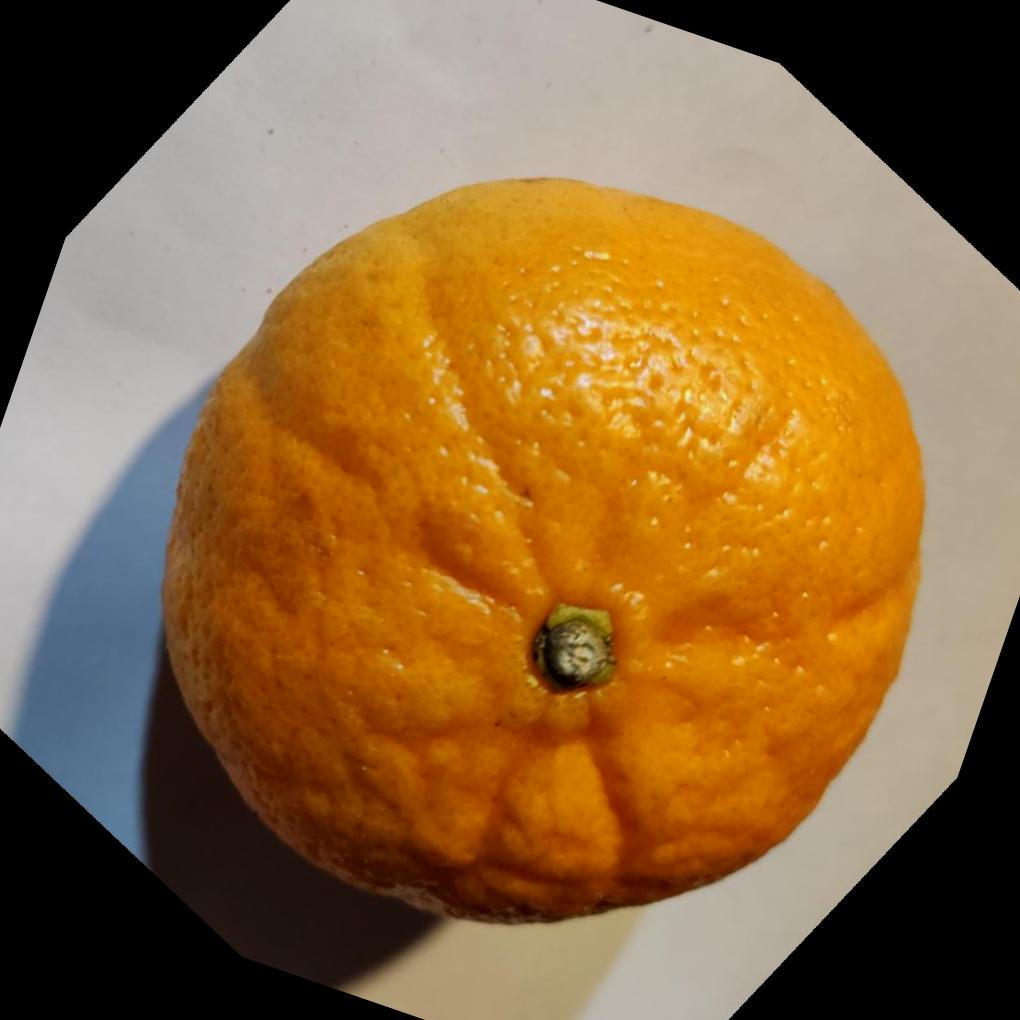FreshGuava: (155, 173, 925, 925)
